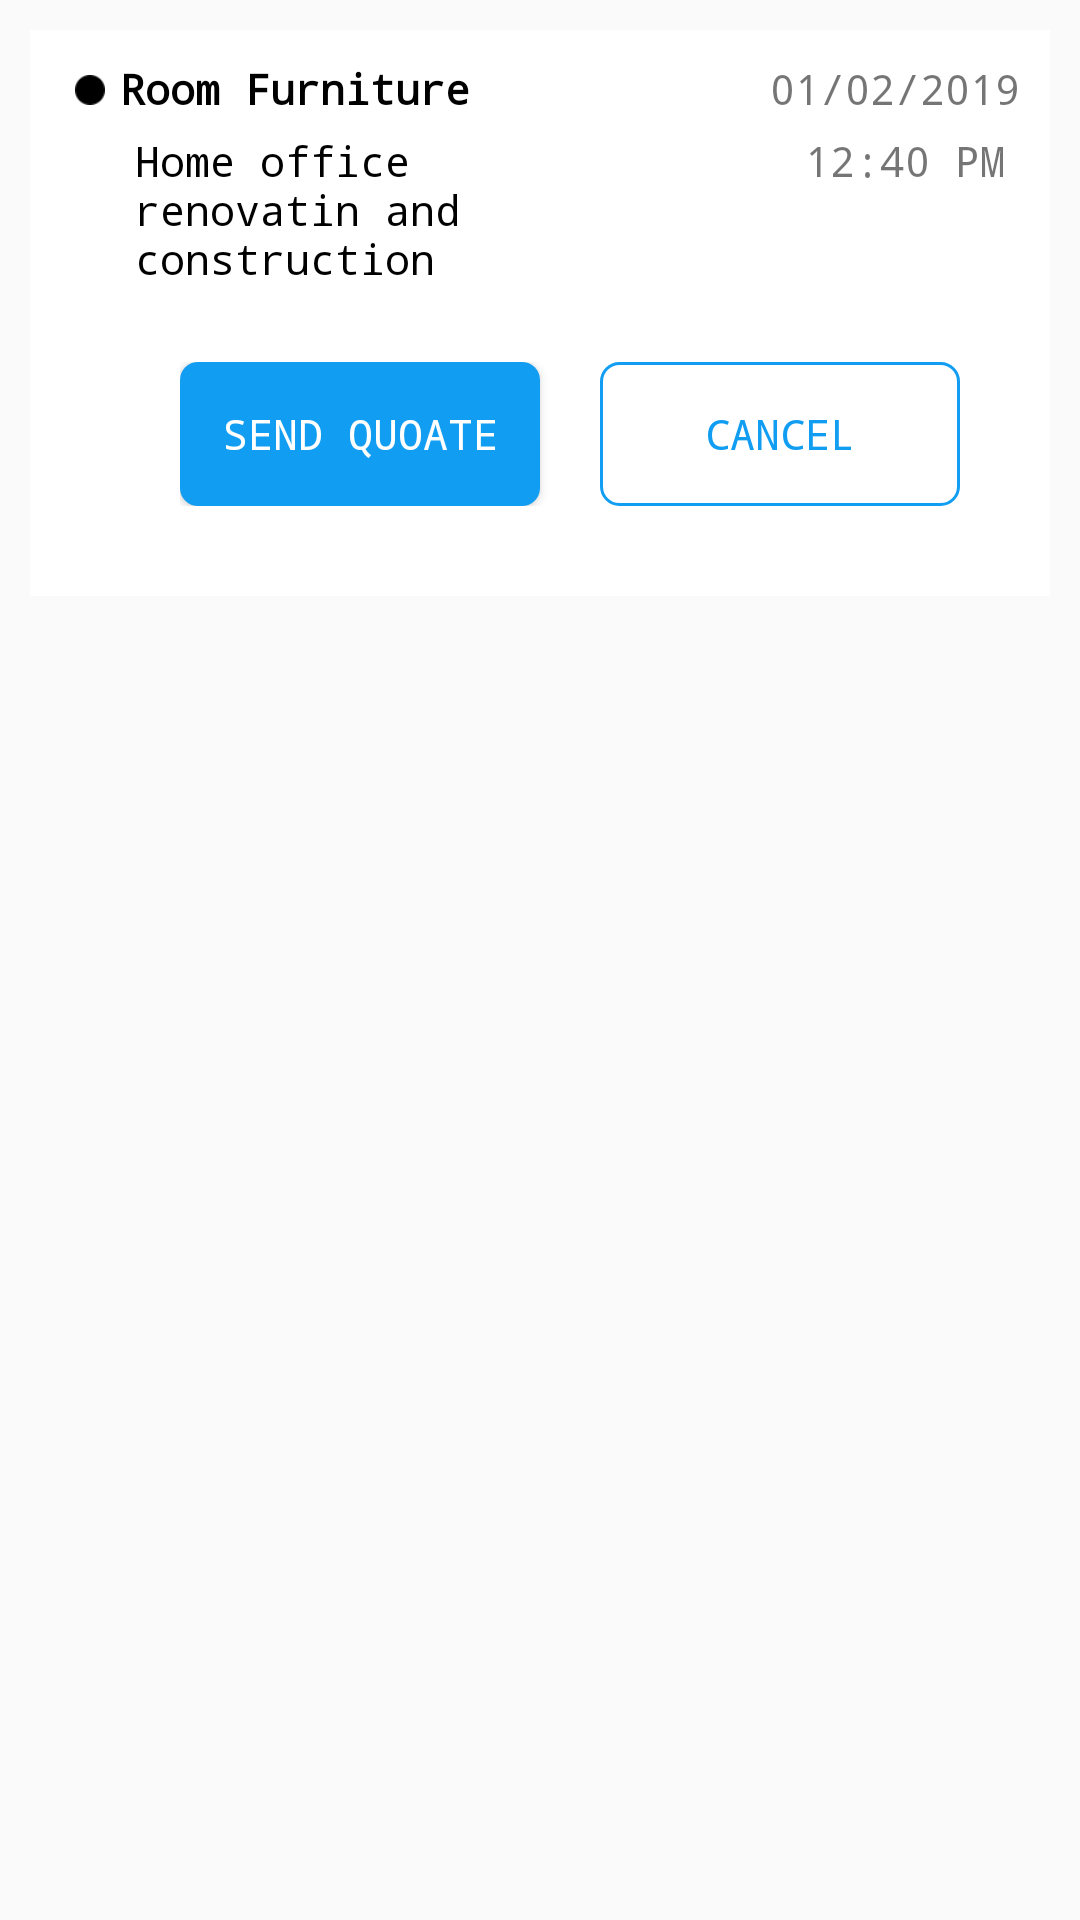

Where to tap for icons on this 1080w x 1920h app screen, as (x=x, y=y):
bullet: (x=90, y=90)
